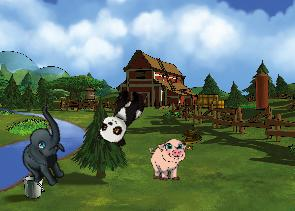elephant: (2, 104, 88, 193)
panda: (94, 83, 149, 150)
pig: (149, 139, 187, 181)
